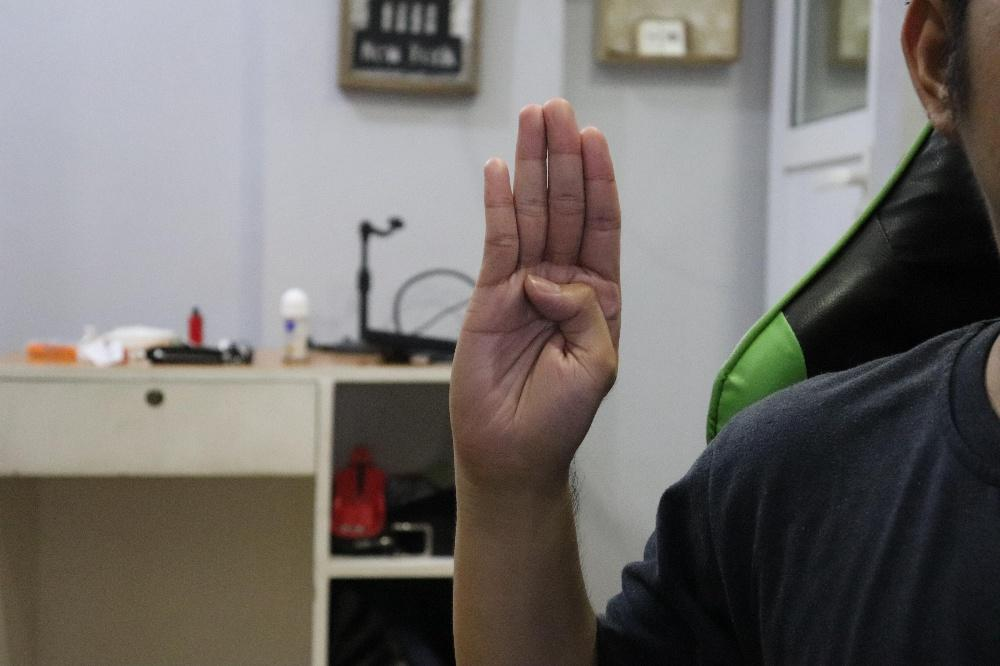b: (448, 96, 619, 480)
